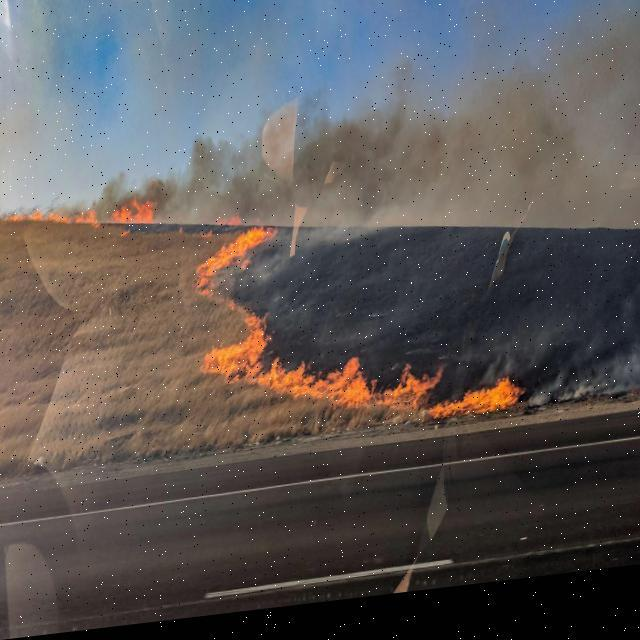Fire: (200, 190, 518, 454), (5, 187, 158, 256)
